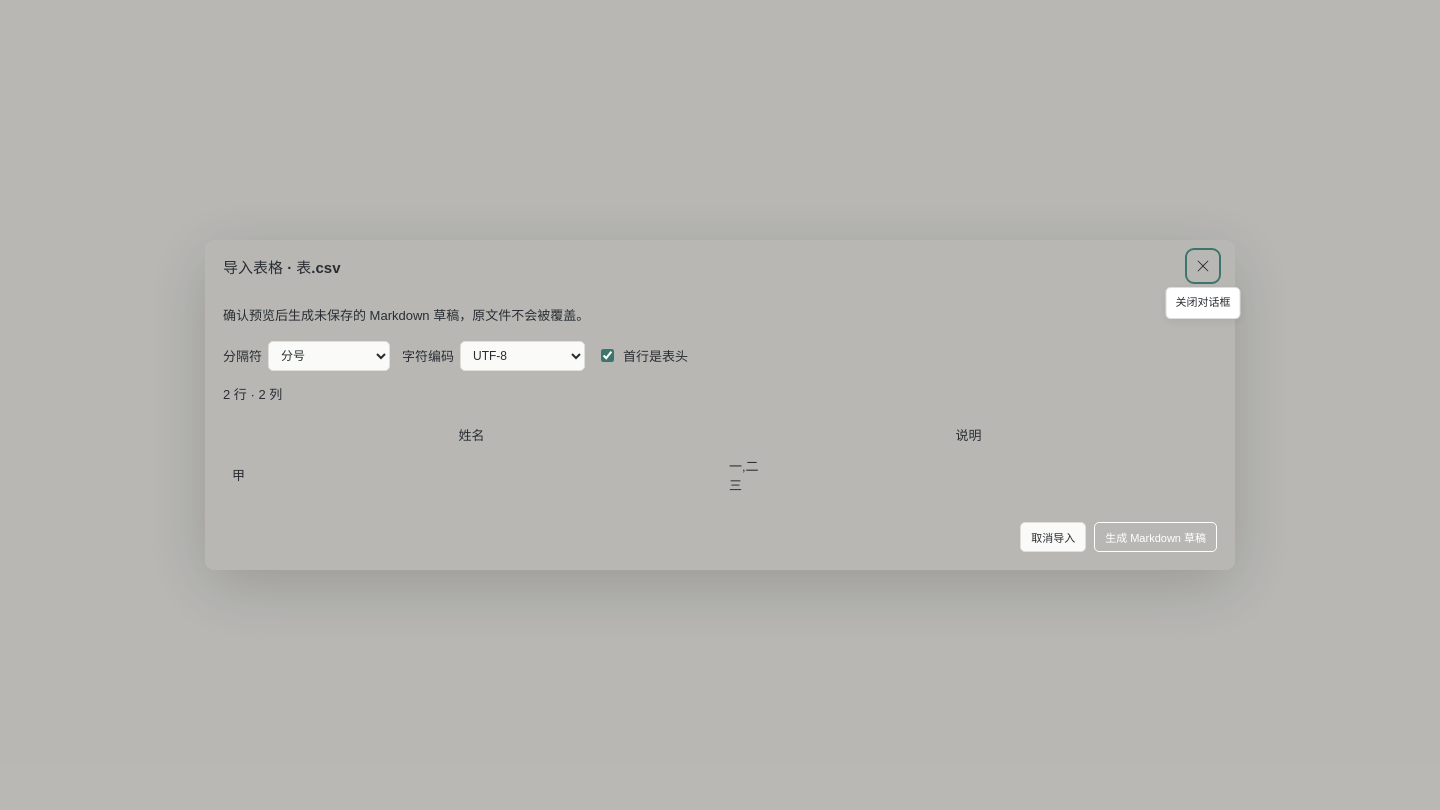
Test: keeps previous preview data and an explicit failure when an encoding cannot be decoded
The width and height of the screenshot is (1440, 810).
Select "UTF-16 BE" in the dropdown labelled "字符编码": {"x": 522, "y": 356} [460,340,585,370]
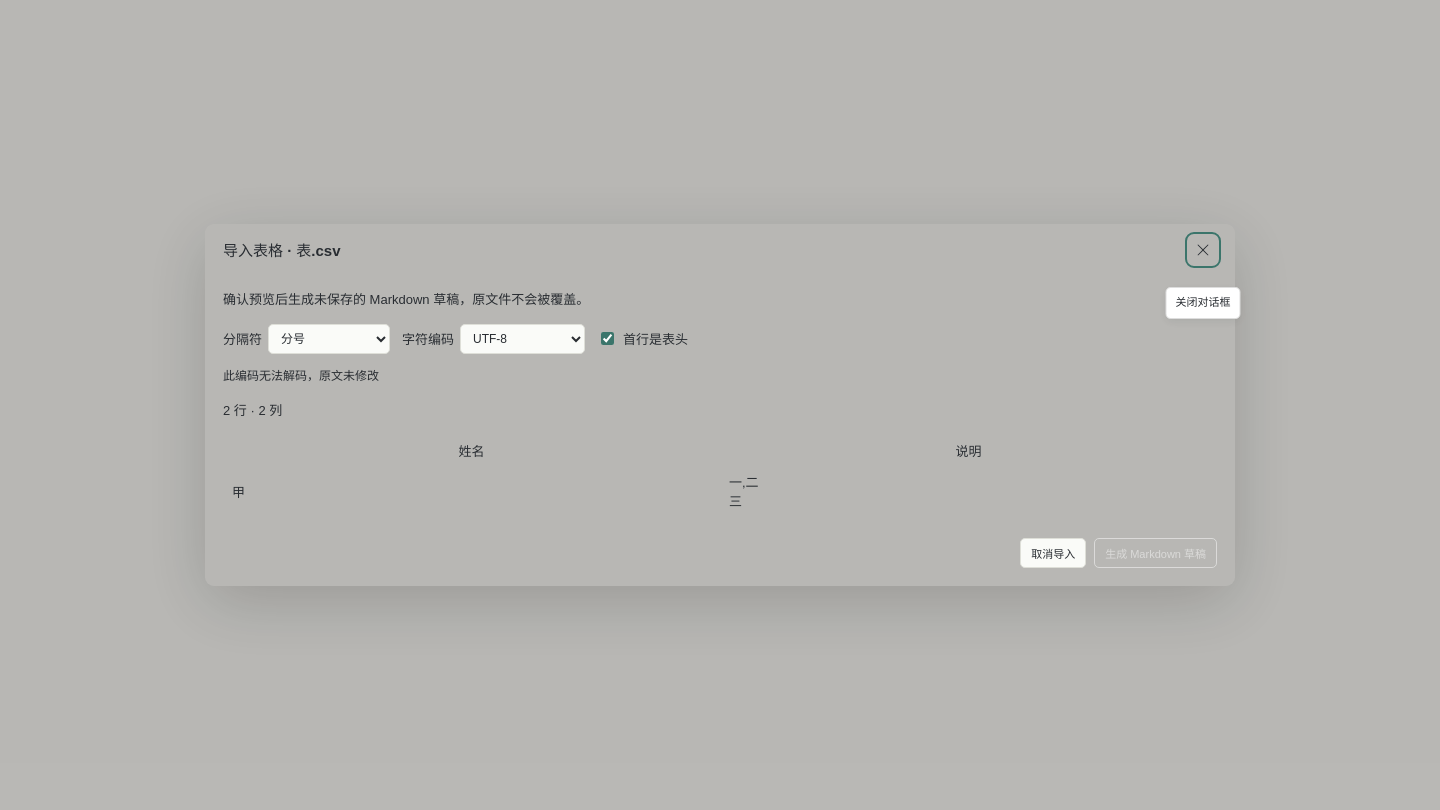
Expected: the table named "表格导入预览" shows "姓名", [458,444,484,459]
Result: the message "此编码无法解码，原文未修改" is shown at [223,369,379,383]
Result: the button "生成 Markdown 草稿" is disabled at [1094,538,1217,568]
